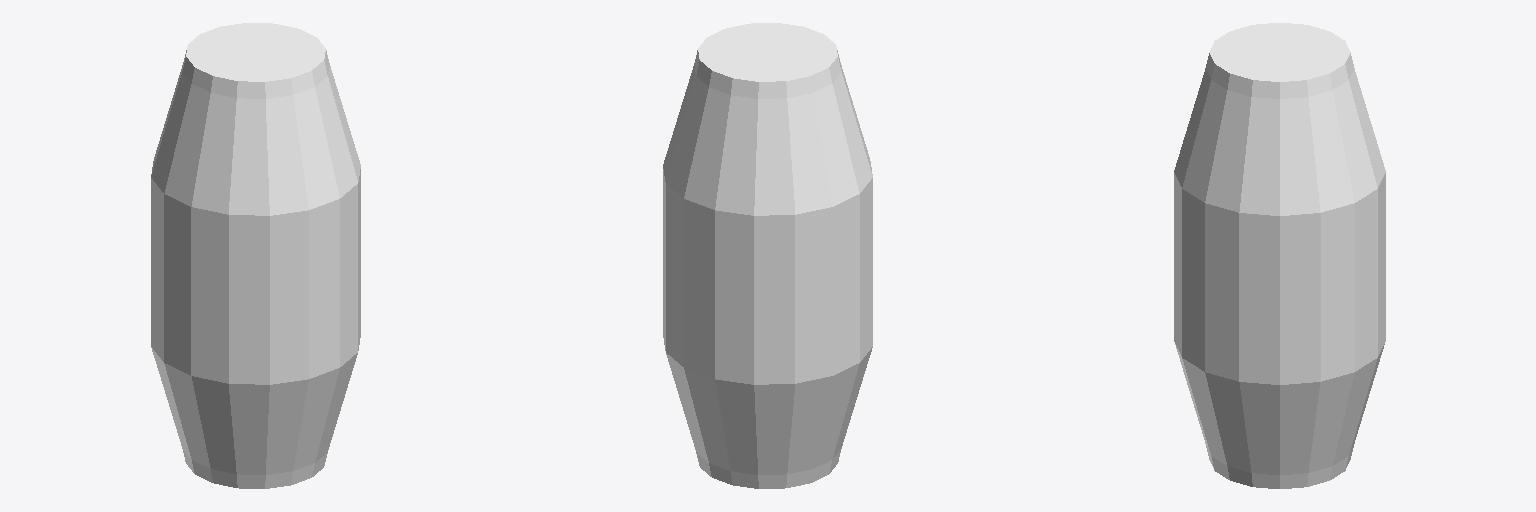
The model's file is barrel.obj.
The picture shows the model from 3 angles: view 1: azimuth 30°, elevation 25°; view 2: azimuth 150°, elevation 25°; view 3: azimuth 270°, elevation 25°; orthographic projection.
Visible parts, largest first — view 1: cylinder1; view 2: cylinder1; view 3: cylinder1.
Part boxes in pixels (left/top/right/bottom): cylinder1: left=151, top=23, right=360, bottom=488; cylinder1: left=663, top=23, right=872, bottom=488; cylinder1: left=1174, top=23, right=1385, bottom=488.
Bounding box in the file's own units: 3 × 6.36 × 3.